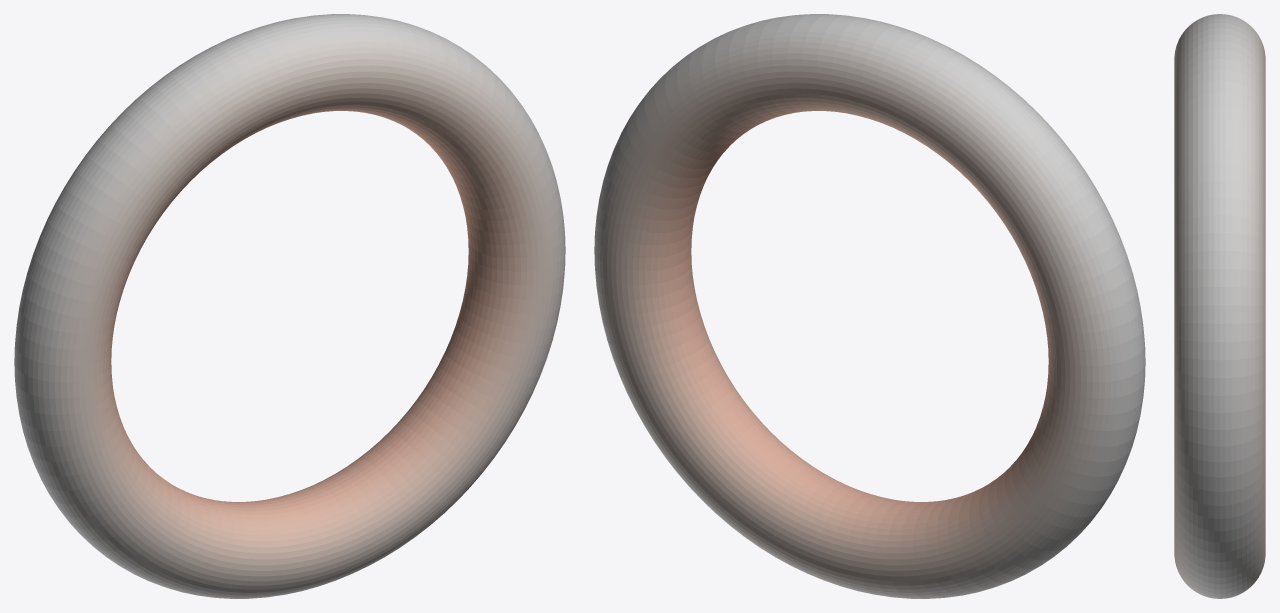
The picture shows the model from 3 angles, left to right: view 1: azimuth 30°, elevation 25°; view 2: azimuth 150°, elevation 25°; view 3: azimuth 270°, elevation 25°; orthographic projection. The views are drawn at different scales.
Parts seen in each view (by area): view 1: world; view 2: world; view 3: world.
Part boxes in pixels (x1,y1,x2,y2): world: (14, 14, 565, 598); world: (594, 14, 1145, 598); world: (1174, 14, 1265, 598).
Bounding box in the file's own units: 31.6 × 31.6 × 4.92.
